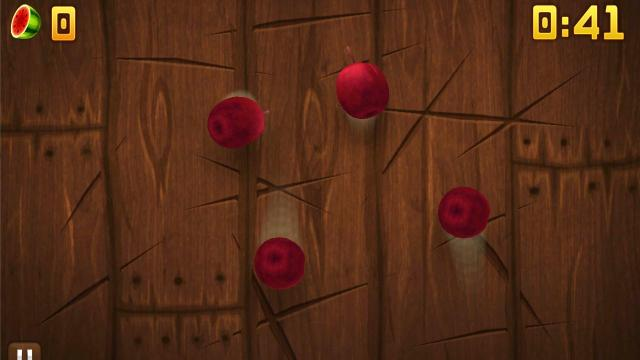fruit: (336, 57, 390, 118), (208, 96, 266, 148), (253, 236, 305, 290), (438, 186, 490, 238)
ignore: (9, 3, 43, 41)
